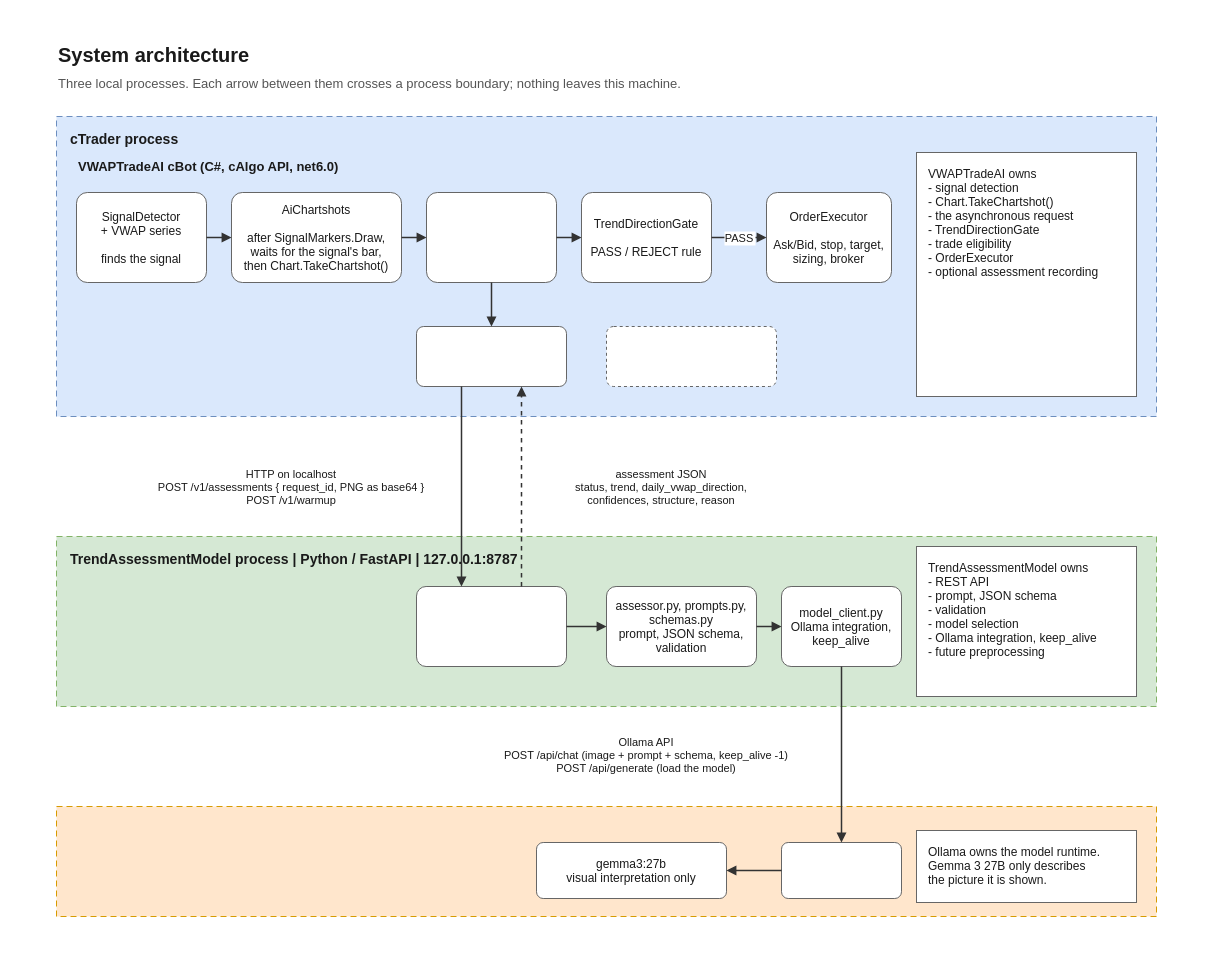
Image size: 1213x963. Some labels were removed from this diagram. Here are the shapes that lost their labels. From the top down, the box of each, then its label:
(426, 192, 556, 282): AiTrendFilter async flow, eligibility check
(416, 326, 566, 386): TrendAssessmentClient HTTP adapter
(606, 326, 776, 386): TrendAssessmentRecorder (optional)
(416, 586, 566, 666): api.py REST API
(56, 806, 1156, 916): Ollama process | 127.0.0.1:11434
(780, 842, 902, 898): Ollama model runtime
